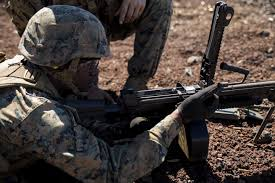gun: (66, 1, 272, 165)
